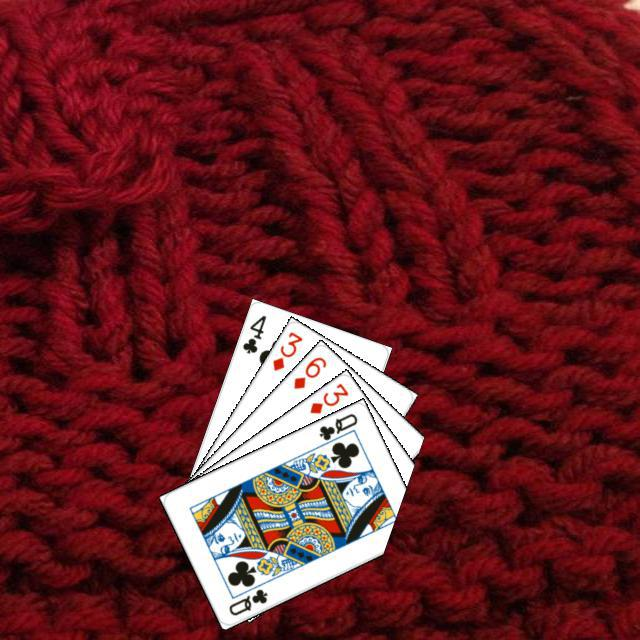3d: (305, 378, 350, 416), (267, 327, 304, 373)
4c: (238, 310, 268, 356)
6d: (289, 352, 328, 391)
Qc: (314, 408, 359, 449), (224, 584, 269, 617)
